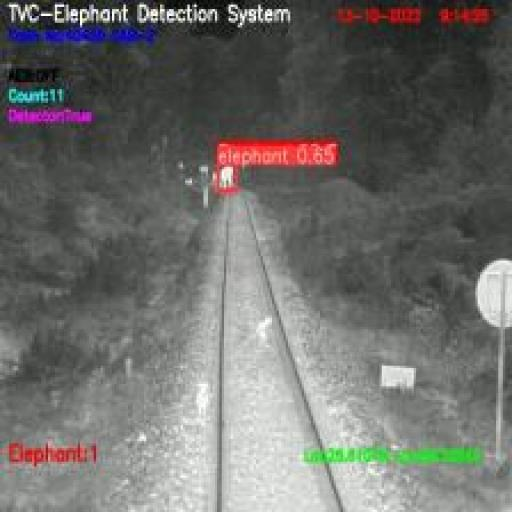Elephant: (217, 165, 236, 192)
